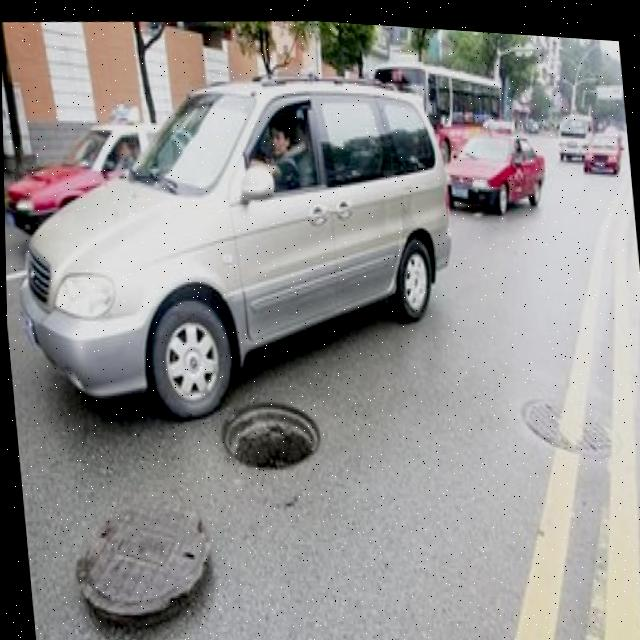manhole: (211, 392, 320, 472)
